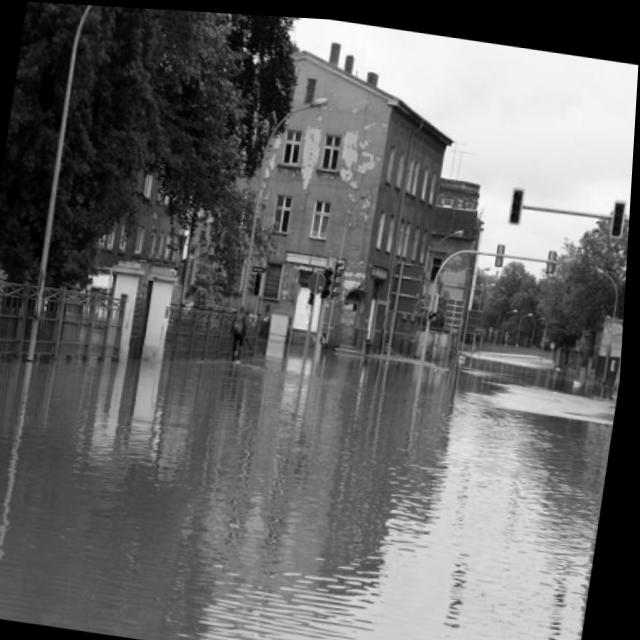civilian: (218, 294, 259, 373)
